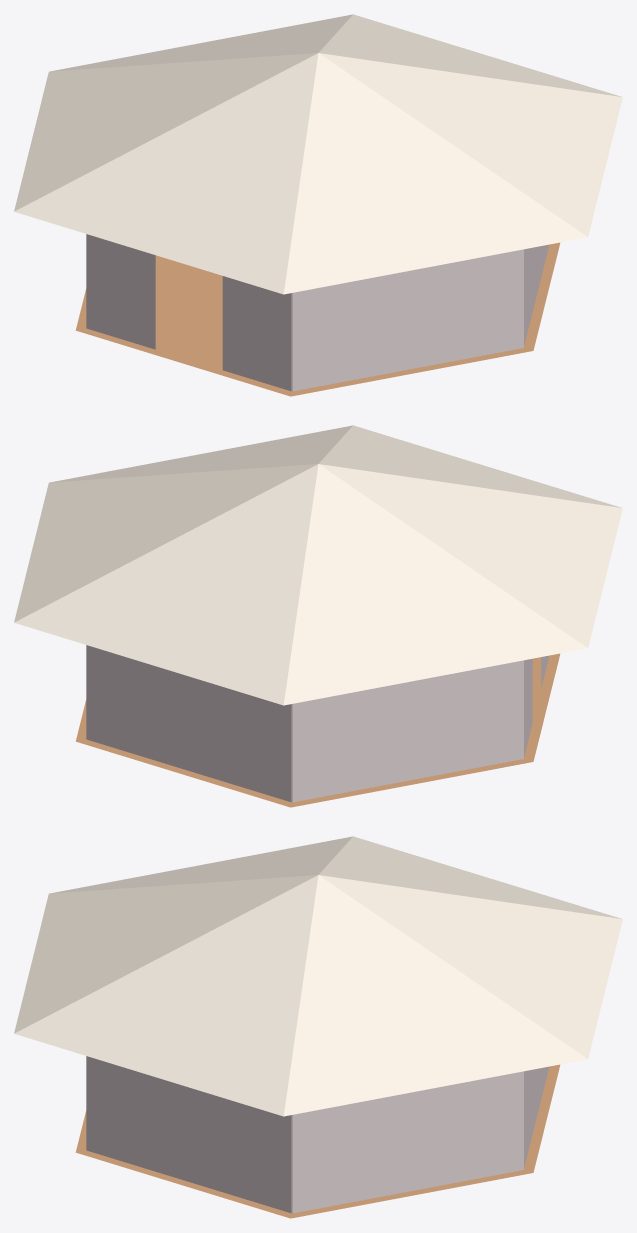
Rendered from zon_room_photos_raw.glb.
3 renders of one model, top to bottom at view 1: azimuth 30°, elevation 25°; view 2: azimuth 150°, elevation 25°; view 3: azimuth 270°, elevation 25°, orthographic.
Parts seen in each view (by area): view 1: SM_zon_room_photos_room_ceiling_x0_zm1_raw, SM_zon_room_photos_room_paper_x0_zm1_raw, SM_zon_room_photos_room_floor_x0_zm1_raw; view 2: SM_zon_room_photos_room_ceiling_x0_zm1_raw, SM_zon_room_photos_room_paper_x0_zm1_raw, SM_zon_room_photos_room_floor_x0_zm1_raw; view 3: SM_zon_room_photos_room_ceiling_x0_zm1_raw, SM_zon_room_photos_room_paper_x0_zm1_raw, SM_zon_room_photos_room_floor_x0_zm1_raw.
Part boxes in pixels (x1,y1,x2,y2): SM_zon_room_photos_room_ceiling_x0_zm1_raw: [14, 14, 622, 294]; SM_zon_room_photos_room_paper_x0_zm1_raw: [86, 234, 549, 391]; SM_zon_room_photos_room_floor_x0_zm1_raw: [75, 242, 560, 396]; SM_zon_room_photos_room_ceiling_x0_zm1_raw: [14, 425, 622, 705]; SM_zon_room_photos_room_paper_x0_zm1_raw: [86, 645, 549, 802]; SM_zon_room_photos_room_floor_x0_zm1_raw: [75, 653, 560, 807]; SM_zon_room_photos_room_ceiling_x0_zm1_raw: [14, 836, 622, 1116]; SM_zon_room_photos_room_paper_x0_zm1_raw: [86, 1056, 549, 1213]; SM_zon_room_photos_room_floor_x0_zm1_raw: [75, 1064, 560, 1218].
Size of the model in its own units: 15.22 by 5.9 by 13.98.
